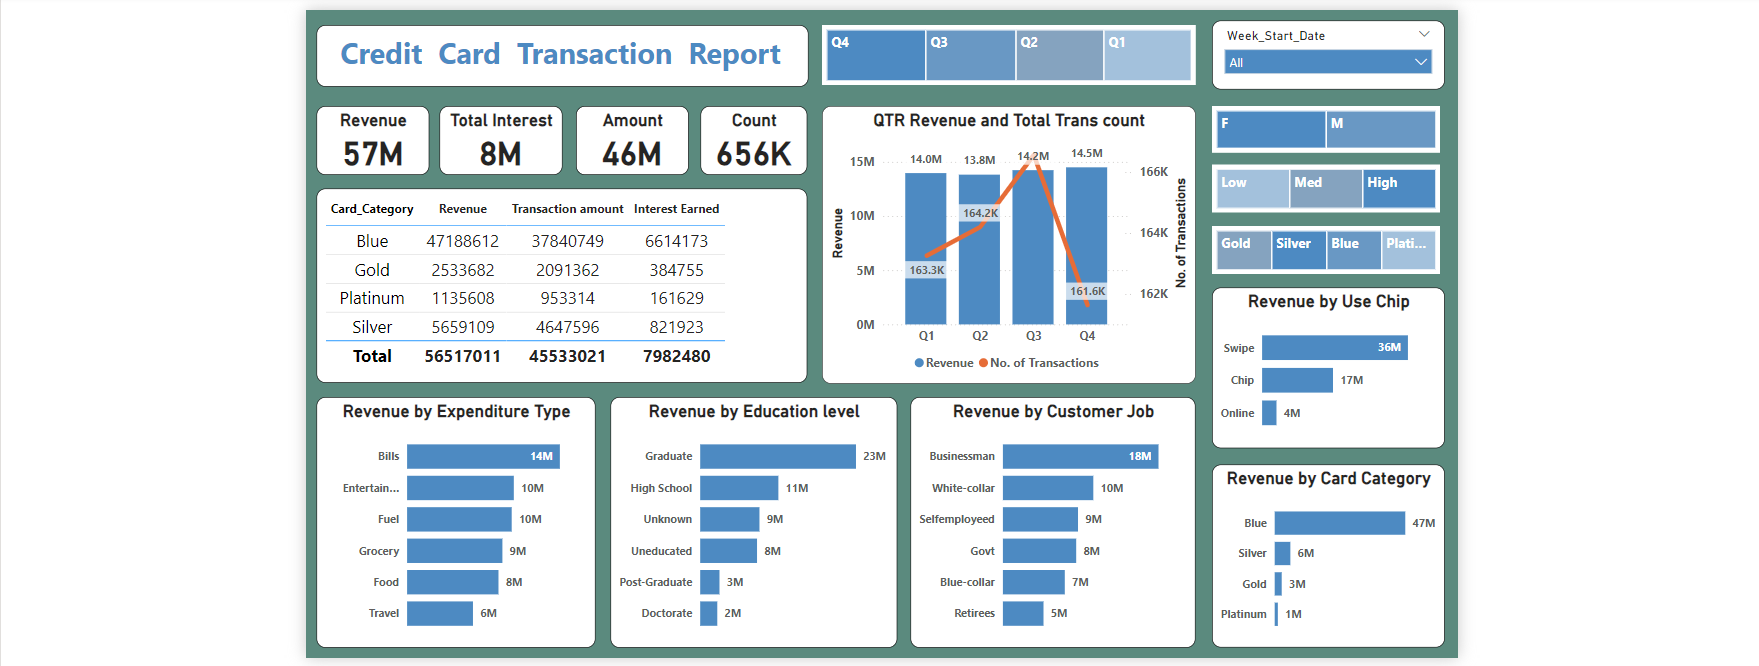

What the dashboard file says about the page in this screenshot:
{"tool":"powerbi","page":{"name":"CC Transaction","canvas":[1280,720],"ordinal":0},"visuals":[{"type":"textbox","box":[11.7,16.7,546.7,68.3],"z":0},{"type":"lineStackedColumnComboChart","title":"QTR Revenue and Total Trans count","fields":{"Category":["credit_card.Qtr"],"Y":["Sum(credit_card.Revenue)"],"Y2":["Sum(credit_card.Total_Trans_Vol)"]},"box":[573.3,106.7,415,308.3],"z":1000},{"type":"barChart","title":"Revenue by Expenditure Type","fields":{"Y":["Sum(credit_card.Revenue)"],"Category":["credit_card.Exp Type"]},"box":[11.7,430,310,278.3],"z":2000},{"type":"barChart","title":"Revenue by Education level","fields":{"Y":["Sum(credit_card.Revenue)"],"Category":["customer.Education_Level"]},"box":[338.3,430,318.3,278.3],"z":3000},{"type":"barChart","title":"Revenue by  Customer Job","fields":{"Y":["Sum(credit_card.Revenue)"],"Category":["customer.Customer_Job"]},"box":[671.7,430,316.7,278.3],"z":4000},{"type":"barChart","title":"Revenue by  Card Category","fields":{"Y":["Sum(credit_card.Revenue)"],"Category":["credit_card.Card_Category"]},"box":[1006.7,505,258.3,203.3],"z":5000},{"type":"barChart","title":"Revenue by  Use Chip","fields":{"Y":["Sum(credit_card.Revenue)"],"Category":["credit_card.Use Chip"]},"box":[1006.7,308.3,258.3,178.3],"z":6000},{"type":"tableEx","fields":{"Values":["credit_card.Card_Category","Sum(credit_card.Revenue)","Sum(credit_card.Total_Trans_Amt)","Sum(credit_card.Interest_Earned)"]},"box":[12,198.8,545.6,216.3],"z":7000},{"type":"card","title":"Revenue","fields":{"Values":["Sum(credit_card.Revenue)"]},"box":[11.7,106.7,125,76.7],"z":8000},{"type":"card","title":"Amount","fields":{"Values":["Sum(credit_card.Total_Trans_Amt)"]},"box":[300,106.7,125,76.7],"z":9000},{"type":"card","title":"Total Interest","fields":{"Values":["Sum(credit_card.Interest_Earned)"]},"box":[148.3,106.7,136.7,76.7],"z":10000},{"type":"card","title":"Count","fields":{"Values":["Sum(credit_card.Total_Trans_Vol)"]},"box":[438.3,106.7,118.3,76.7],"z":11000},{"type":"slicer","fields":{"Values":["credit_card.Week_Start_Date"]},"box":[1006.7,11.7,258.3,76.7],"z":12000},{"type":"treemap","fields":{"Values":["Avg(credit_card.Client_Num)"],"Group":["credit_card.Qtr"]},"box":[573.3,16.7,415,66.7],"z":13000},{"type":"treemap","fields":{"Values":["Avg(credit_card.Client_Num)"],"Group":["credit_card.Card_Category"]},"box":[1006.7,240,253.3,53.3],"z":14000},{"type":"treemap","fields":{"Values":["Avg(credit_card.Client_Num)"],"Group":["customer.Income_Group"]},"box":[1006.7,171.7,253.3,53.3],"z":15000},{"type":"treemap","fields":{"Values":["Avg(credit_card.Client_Num)"],"Group":["customer.Gender"]},"box":[1006.7,106.7,253.3,51.7],"z":16000}]}

Visuals, with their boxes in screenshot pixels (x1, y1, x2, y2):
textbox: Rect(304, 20, 801, 82)
"QTR Revenue and Total Trans count" lineStackedColumnComboChart: Rect(815, 102, 1192, 382)
"Revenue by Expenditure Type" barChart: Rect(304, 396, 586, 649)
"Revenue by Education level" barChart: Rect(601, 396, 891, 649)
"Revenue by  Customer Job" barChart: Rect(904, 396, 1192, 649)
"Revenue by  Card Category" barChart: Rect(1209, 464, 1444, 649)
"Revenue by  Use Chip" barChart: Rect(1209, 285, 1444, 447)
tableEx - credit_card.Card_Category x Sum(credit_card.Revenue): Rect(304, 185, 800, 382)
"Revenue" card: Rect(304, 102, 418, 171)
"Amount" card: Rect(566, 102, 680, 171)
"Total Interest" card: Rect(428, 102, 552, 171)
"Count" card: Rect(692, 102, 800, 171)
slicer - credit_card.Week_Start_Date: Rect(1209, 15, 1444, 85)
treemap - Avg(credit_card.Client_Num) x credit_card.Qtr: Rect(815, 20, 1192, 80)
treemap - Avg(credit_card.Client_Num) x credit_card.Card_Category: Rect(1209, 223, 1439, 271)
treemap - Avg(credit_card.Client_Num) x customer.Income_Group: Rect(1209, 161, 1439, 209)
treemap - Avg(credit_card.Client_Num) x customer.Gender: Rect(1209, 102, 1439, 149)
